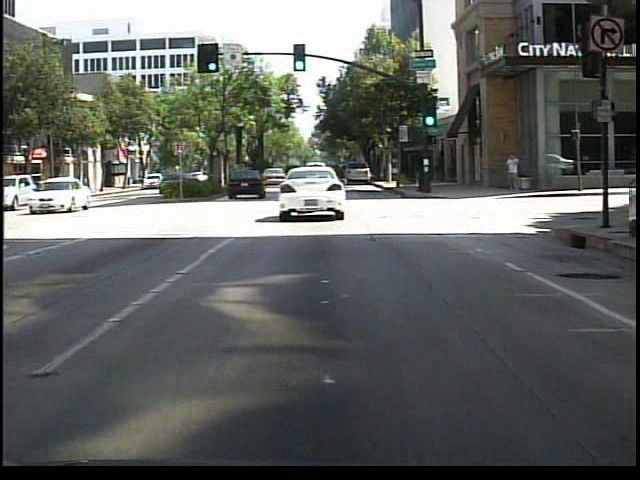person: (502, 152, 521, 197)
